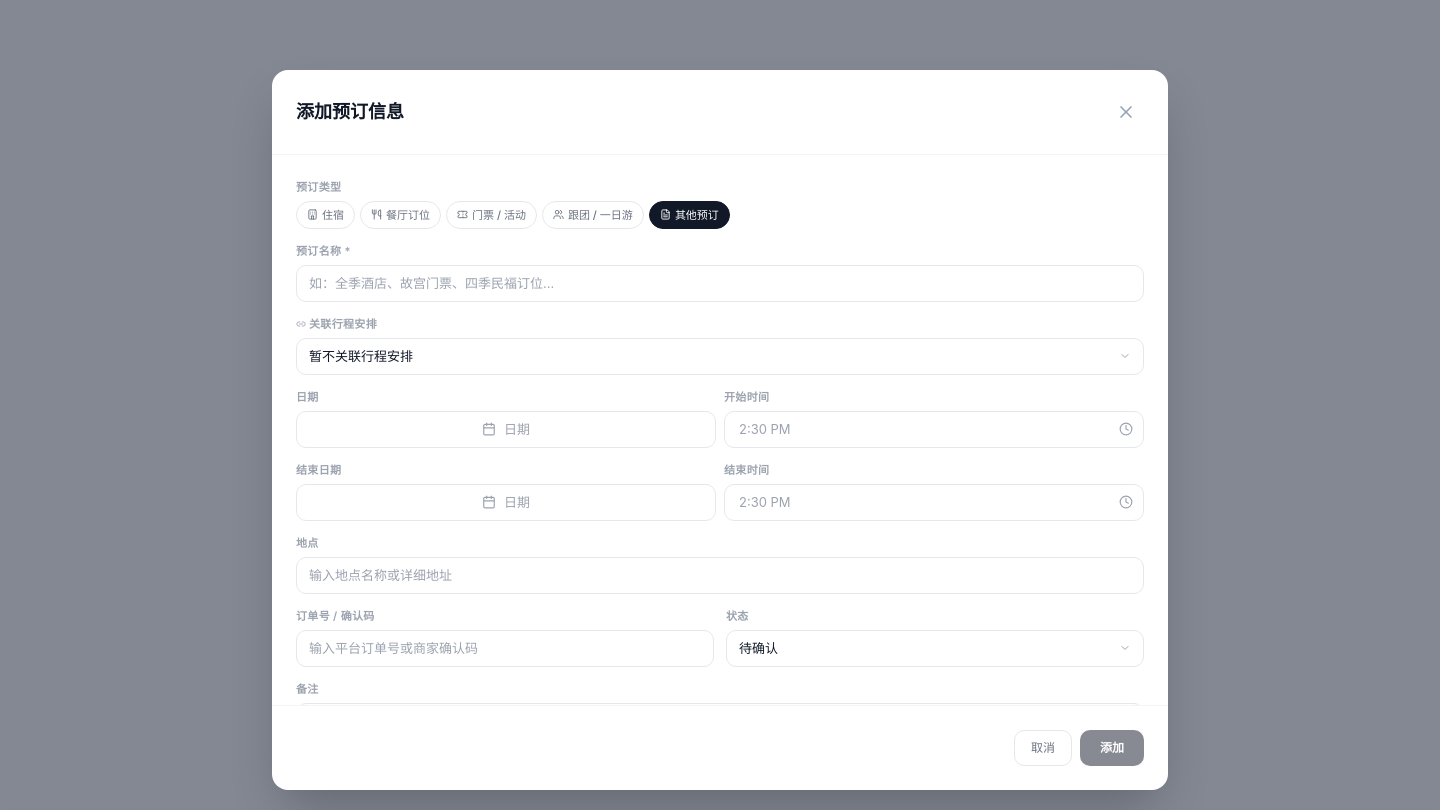
Scenario: ReservationModal › FE-PLANNER-RESMODAL-010: hotel type hides assignment picker
Note: Switch to hotel type
Click the button "住宿".
click(326, 215)  # box x1=296 y1=200 x2=355 y2=229
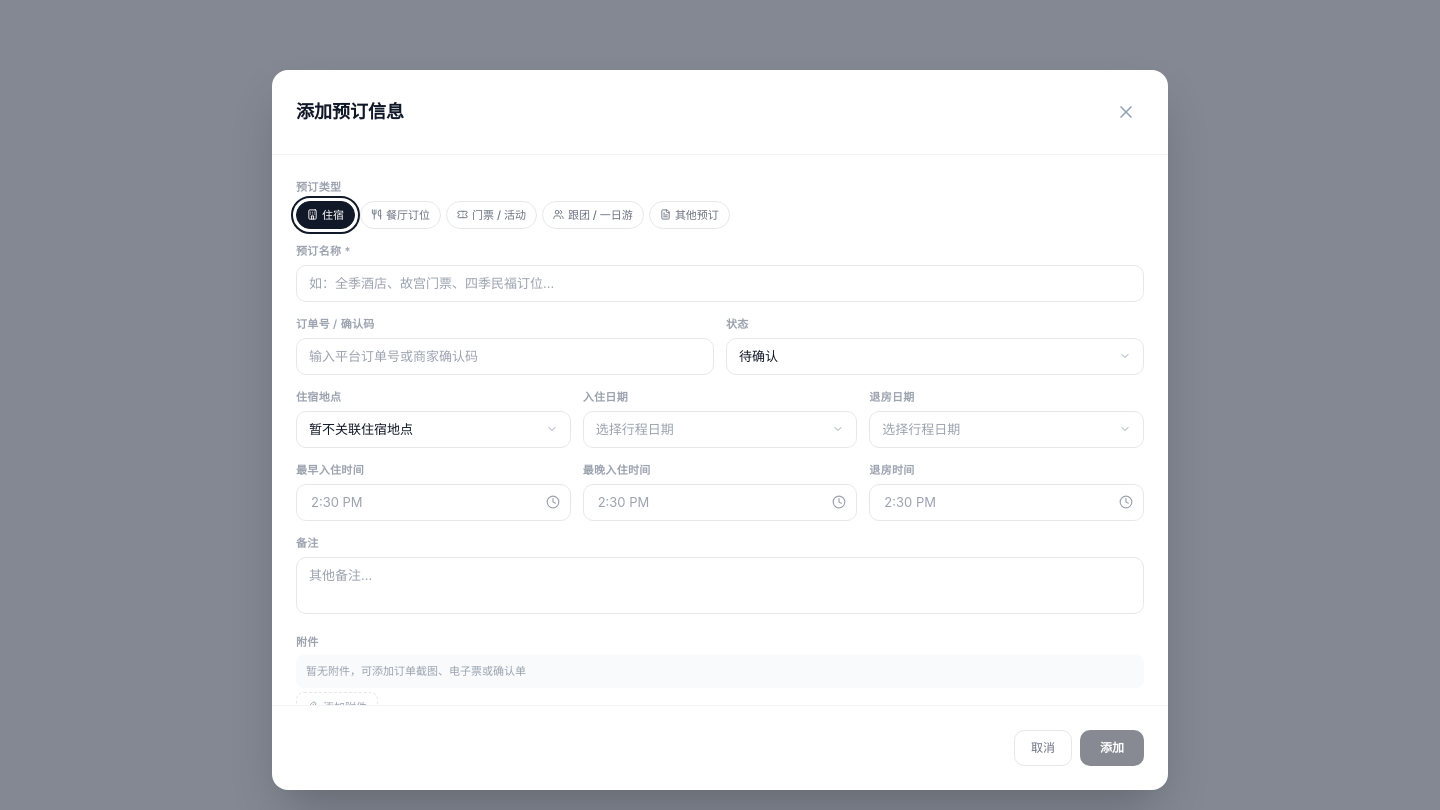
Expected: the text "关联行程安排" is gone
